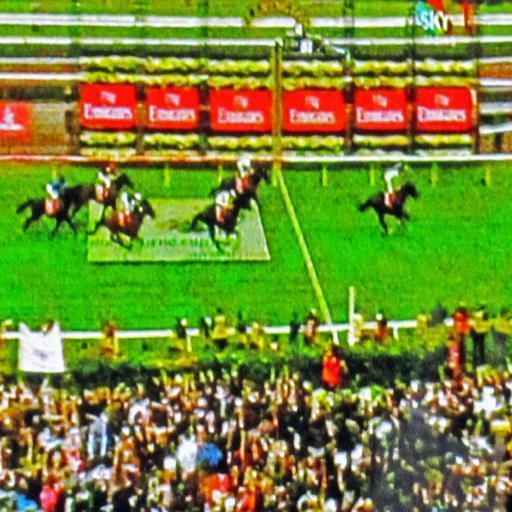horse: (185, 190, 253, 256), (14, 182, 82, 240), (88, 198, 156, 250), (358, 180, 421, 236), (70, 172, 138, 220), (214, 162, 273, 214)
